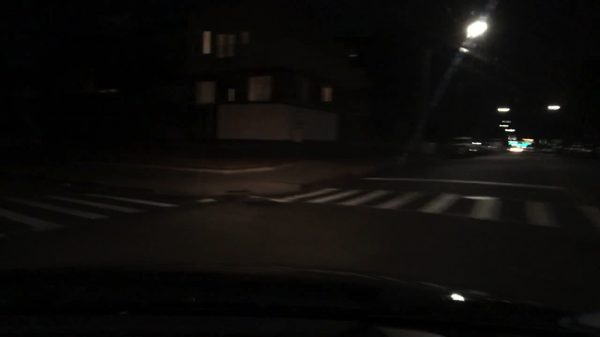car: (449, 136, 475, 157), (564, 140, 592, 156), (472, 140, 495, 156), (549, 142, 570, 153), (539, 142, 554, 154)
